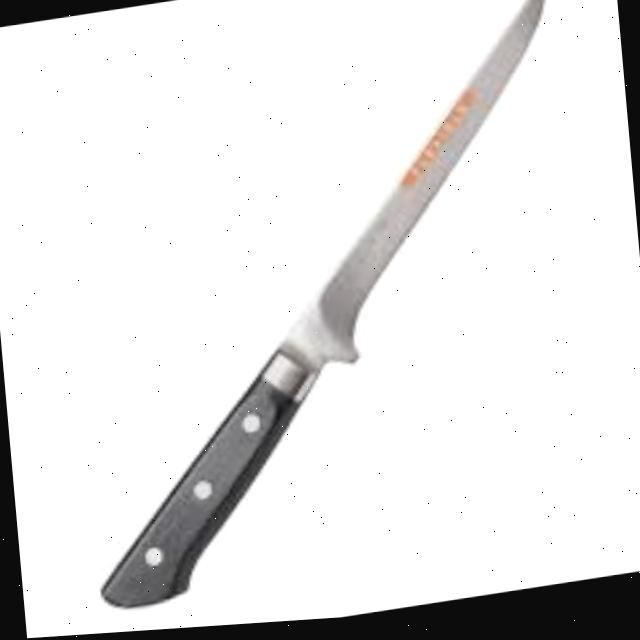knife: (50, 0, 595, 616)
